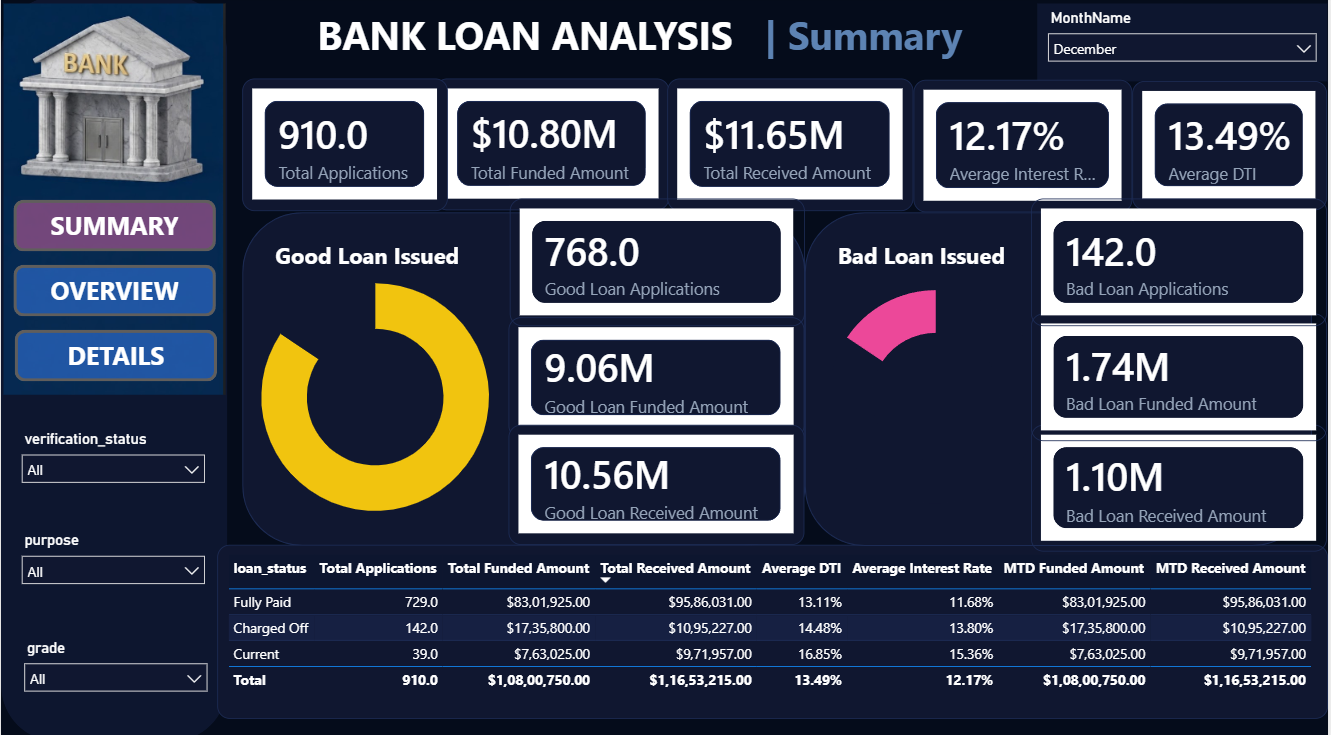

This screenshot's page, from the dashboard's own definition file:
{"tool":"tableau","page":{"name":"Summary","canvas":[1100,550],"ordinal":3},"visuals":[{"type":"image","param":"C:/Users/Dell/Pictures/PROJECTS/Bank_loan_analysis/1.png","box":[8,8,1084,534]},{"type":"parameter","param":"[Parameters].[Parameter 2]","box":[903,13,160,44]},{"type":"worksheet","title":"Total Amount Received","mark":"Automatic","box":[522,60,169,53]},{"type":"worksheet","title":"Average Interest Rate ","mark":"Automatic","box":[707,61,165,53]},{"type":"worksheet","title":"Average Dti","mark":"Automatic","box":[888,62,170,55]},{"type":"worksheet","title":"Total Loan Applications ","mark":"Automatic","box":[164,63,159,54]},{"type":"worksheet","title":"Total Funded Amount","mark":"Automatic","box":[347,64,165,47]},{"type":"text","box":[345,104,38,32]},{"type":"text","box":[464,105,44,32]},{"type":"text","box":[647,105,44,32]},{"type":"text","box":[709,105,44,32]},{"type":"text","box":[897,105,44,32]},{"type":"text","box":[526,107,44,32]},{"type":"text","box":[824,107,44,32]},{"type":"text","box":[1011,109,44,26]},{"type":"text","box":[169,110,44,20]},{"type":"text","box":[274,110,44,20]},{"type":"worksheet","title":"MTD Total Funded Amount","mark":"Automatic","box":[345,121,58,32]},{"type":"worksheet","title":"MoM Total Loan Applications ","mark":"Automatic","box":[269,124,57,29]},{"type":"worksheet","title":"MoM Average Interest Rate ","mark":"Automatic","box":[820,125,53,28]},{"type":"worksheet","title":"MTD Total Loan Applications","mark":"Automatic","box":[165,126,53,24]},{"type":"worksheet","title":"MTD Average Interest Rate","mark":"Automatic","box":[710,126,54,26]},{"type":"worksheet","title":"MTD Average Dti ","mark":"Automatic","box":[896,126,53,31]},{"type":"worksheet","title":"MoM Total Amount Received ","mark":"Automatic","box":[623,127,68,25]},{"type":"worksheet","title":"MoM Average Dti ","mark":"Automatic","box":[1005,127,57,28]},{"type":"worksheet","title":"MoM Total Funded Amount","mark":"Automatic","box":[456,128,57,27]},{"type":"worksheet","title":"MTD Total Amount Received","mark":"Automatic","box":[526,128,64,25]},{"type":"worksheet","title":"Good Loan Issued ","mark":"Pie","rows":["Calculation_1709397555121438741","Calculation_1709397555121438741"],"box":[161,162,227,210]},{"type":"worksheet","title":"Bad Loan Issued ","mark":"Pie","rows":["Calculation_1709397555121438741","Calculation_1709397555121438741"],"box":[617,163,246,210]},{"type":"worksheet","title":"Good Loan Applications","mark":"Automatic","box":[394,180,208,57]},{"type":"worksheet","title":"Bad Loan Applications ","mark":"Automatic","box":[844,181,208,57]},{"type":"dashboard-object","box":[27,235,112,33]},{"type":"worksheet","title":"Good Loan Funded Amount","mark":"Automatic","box":[394,242,208,57]},{"type":"worksheet","title":"Bad Loan Funded Amount ","mark":"Automatic","box":[844,247,208,57]},{"type":"worksheet","title":"Good Loan Application %","mark":"Automatic","box":[234,265,82,49]},{"type":"worksheet","title":"Bad Loan Application % (2)","mark":"Automatic","box":[697,267,89,41]},{"type":"dashboard-object","box":[26,274,112,33]},{"type":"worksheet","title":"Good Loan Amount Received","mark":"Automatic","box":[395,304,208,57]},{"type":"worksheet","title":"Bad Loan Amount Received","mark":"Automatic","box":[845,310,208,57]},{"type":"filter","title":"Good Loan Issued ","param":"[federated.0yqgnu00ocy87r1dif94p1s83zvb].[none:purpose:nk]","box":[14,323,136,46]},{"type":"filter","title":"Good Loan Issued ","param":"[federated.0yqgnu00ocy87r1dif94p1s83zvb].[none:grade:nk]","box":[16,377,135,45]},{"type":"worksheet","title":"Loan Status","mark":"Automatic","rows":["loan_status"],"box":[158,382,898,155]},{"type":"filter","title":"Good Loan Issued ","param":"[federated.0yqgnu00ocy87r1dif94p1s83zvb].[none:verification_status:nk]","box":[14,436,135,42]}]}

Visuals, with their boxes on the page's 1100x550 design canvas (x1, y1, x2, y2). These are canvas units, not pixel positions in the 1331x735 screenshot, which may show the page scaled, cropped or inside an application window:
image: box=[8, 8, 1092, 542]
parameter: box=[903, 13, 1063, 57]
"Total Amount Received" worksheet: box=[522, 60, 691, 113]
"Average Interest Rate " worksheet: box=[707, 61, 872, 114]
"Average Dti" worksheet: box=[888, 62, 1058, 117]
"Total Loan Applications " worksheet: box=[164, 63, 323, 117]
"Total Funded Amount" worksheet: box=[347, 64, 512, 111]
text: box=[345, 104, 383, 136]
text: box=[464, 105, 508, 137]
text: box=[647, 105, 691, 137]
text: box=[709, 105, 753, 137]
text: box=[897, 105, 941, 137]
text: box=[526, 107, 570, 139]
text: box=[824, 107, 868, 139]
text: box=[1011, 109, 1055, 135]
text: box=[169, 110, 213, 130]
text: box=[274, 110, 318, 130]
"MTD Total Funded Amount" worksheet: box=[345, 121, 403, 153]
"MoM Total Loan Applications " worksheet: box=[269, 124, 326, 153]
"MoM Average Interest Rate " worksheet: box=[820, 125, 873, 153]
"MTD Total Loan Applications" worksheet: box=[165, 126, 218, 150]
"MTD Average Interest Rate" worksheet: box=[710, 126, 764, 152]
"MTD Average Dti " worksheet: box=[896, 126, 949, 157]
"MoM Total Amount Received " worksheet: box=[623, 127, 691, 152]
"MoM Average Dti " worksheet: box=[1005, 127, 1062, 155]
"MoM Total Funded Amount" worksheet: box=[456, 128, 513, 155]
"MTD Total Amount Received" worksheet: box=[526, 128, 590, 153]
"Good Loan Issued " worksheet (Pie marks): box=[161, 162, 388, 372]
"Bad Loan Issued " worksheet (Pie marks): box=[617, 163, 863, 373]
"Good Loan Applications" worksheet: box=[394, 180, 602, 237]
"Bad Loan Applications " worksheet: box=[844, 181, 1052, 238]
dashboard-object: box=[27, 235, 139, 268]
"Good Loan Funded Amount" worksheet: box=[394, 242, 602, 299]
"Bad Loan Funded Amount " worksheet: box=[844, 247, 1052, 304]
"Good Loan Application %" worksheet: box=[234, 265, 316, 314]
"Bad Loan Application % (2)" worksheet: box=[697, 267, 786, 308]
dashboard-object: box=[26, 274, 138, 307]
"Good Loan Amount Received" worksheet: box=[395, 304, 603, 361]
"Bad Loan Amount Received" worksheet: box=[845, 310, 1053, 367]
"Good Loan Issued " filter: box=[14, 323, 150, 369]
"Good Loan Issued " filter: box=[16, 377, 151, 422]
"Loan Status" worksheet: box=[158, 382, 1056, 537]
"Good Loan Issued " filter: box=[14, 436, 149, 478]
